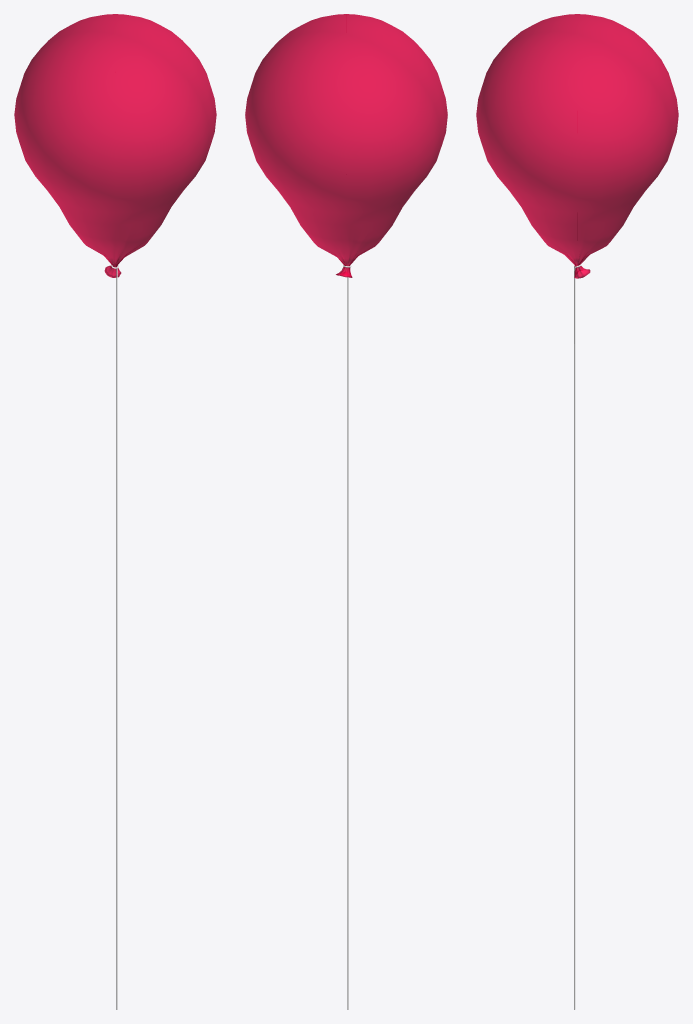
The model's file is balloon.FBX.
3 views of the same model, side by side, from view 1: azimuth 30°, elevation 25°; view 2: azimuth 150°, elevation 25°; view 3: azimuth 270°, elevation 25° (orthographic).
Parts seen in each view (by area): view 1: balloon main, baloon string; view 2: balloon main, baloon string; view 3: balloon main, baloon string.
Part boxes in pixels (left/top/right/bottom): balloon main: left=14, top=14, right=216, bottom=277; baloon string: left=111, top=263, right=119, bottom=1009; balloon main: left=245, top=14, right=447, bottom=277; baloon string: left=343, top=265, right=351, bottom=1009; balloon main: left=476, top=14, right=678, bottom=278; baloon string: left=574, top=264, right=581, bottom=1009.
Bounding box in the file's own units: 0.2824 × 0.2824 × 1.52.
